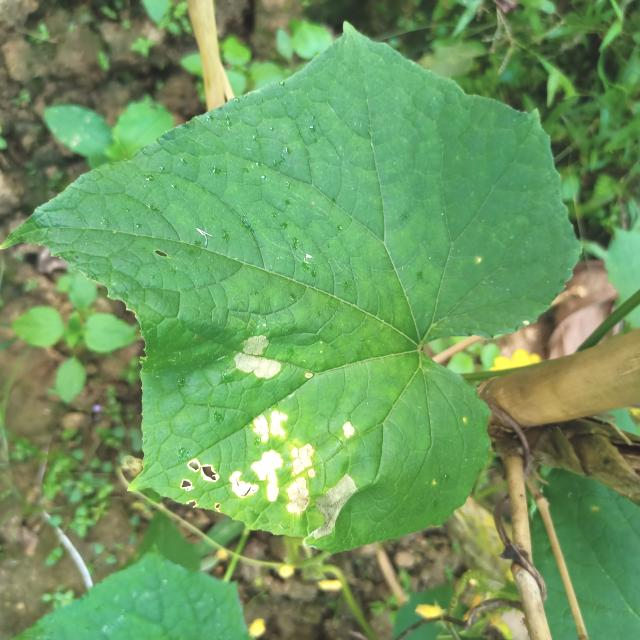disease_cucumber: (176, 402, 383, 542), (230, 330, 287, 384)
